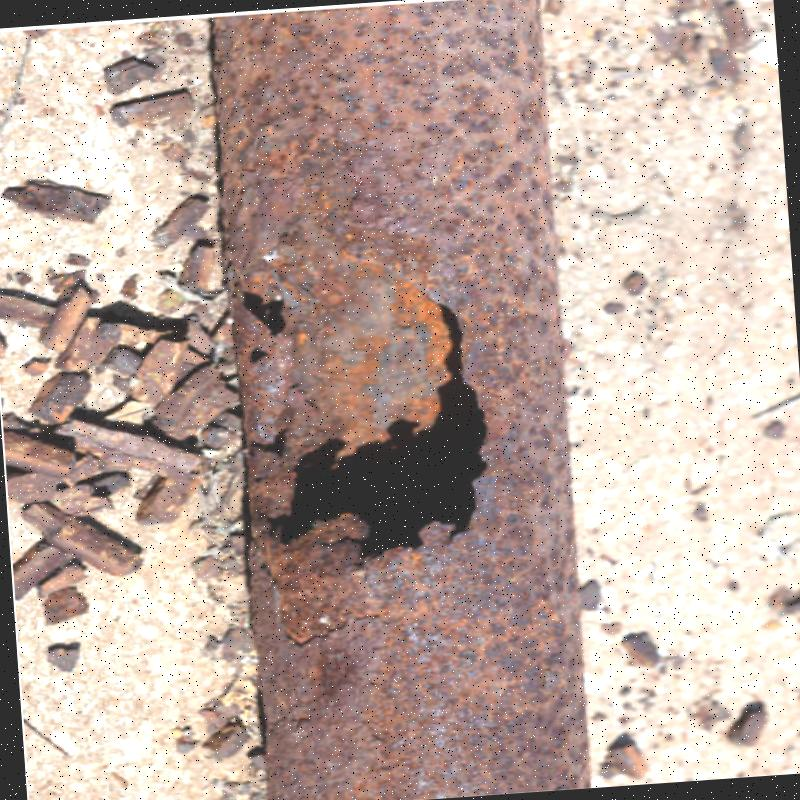Fracture: (256, 292, 497, 574)
corrosion: (331, 103, 508, 227)
